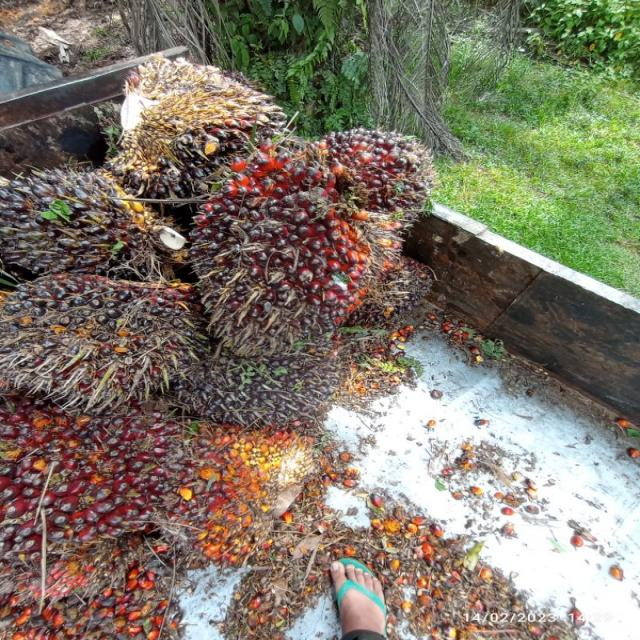fraksi 00: (3, 277, 195, 389), (178, 315, 346, 437), (0, 168, 173, 282)
fraksi 1: (184, 146, 406, 362), (0, 404, 195, 568)
